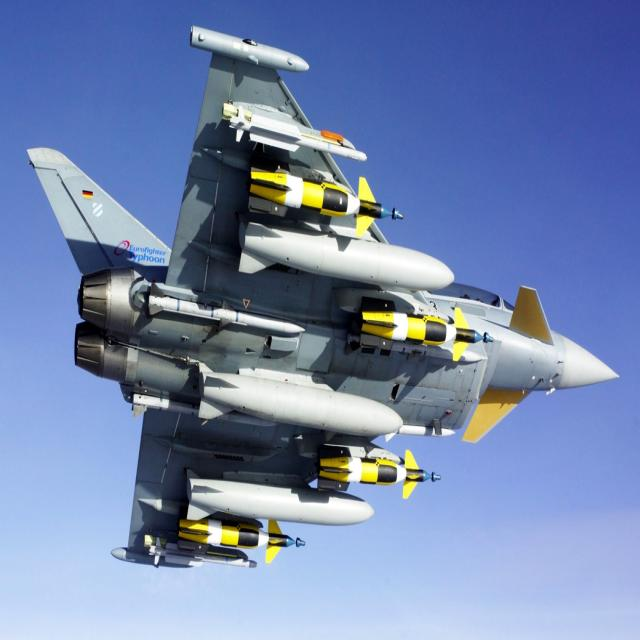MIL_Plane: (25, 24, 620, 569)
